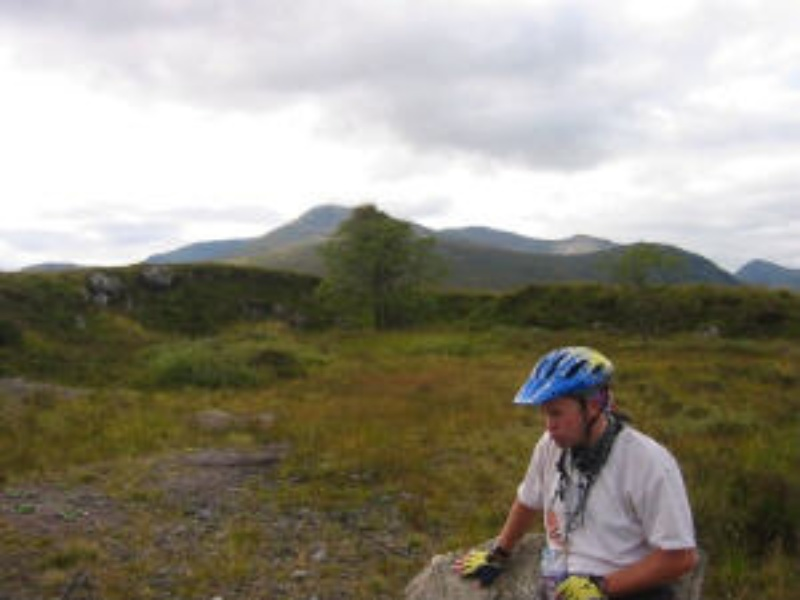person: (453, 345, 699, 599)
